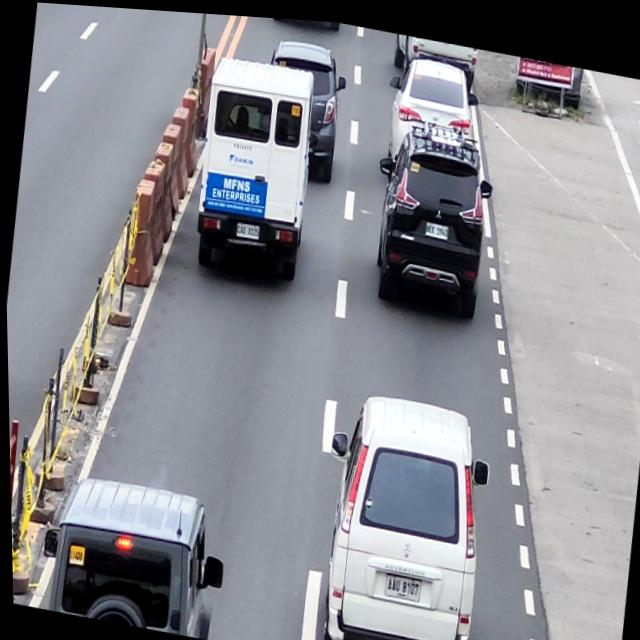Car: (298, 379, 496, 640), (31, 467, 229, 639), (185, 47, 325, 280), (361, 108, 500, 323), (256, 30, 352, 180), (378, 47, 482, 172), (392, 28, 480, 81)
License-Plate: (381, 569, 419, 597), (422, 215, 449, 234), (233, 217, 258, 237)
